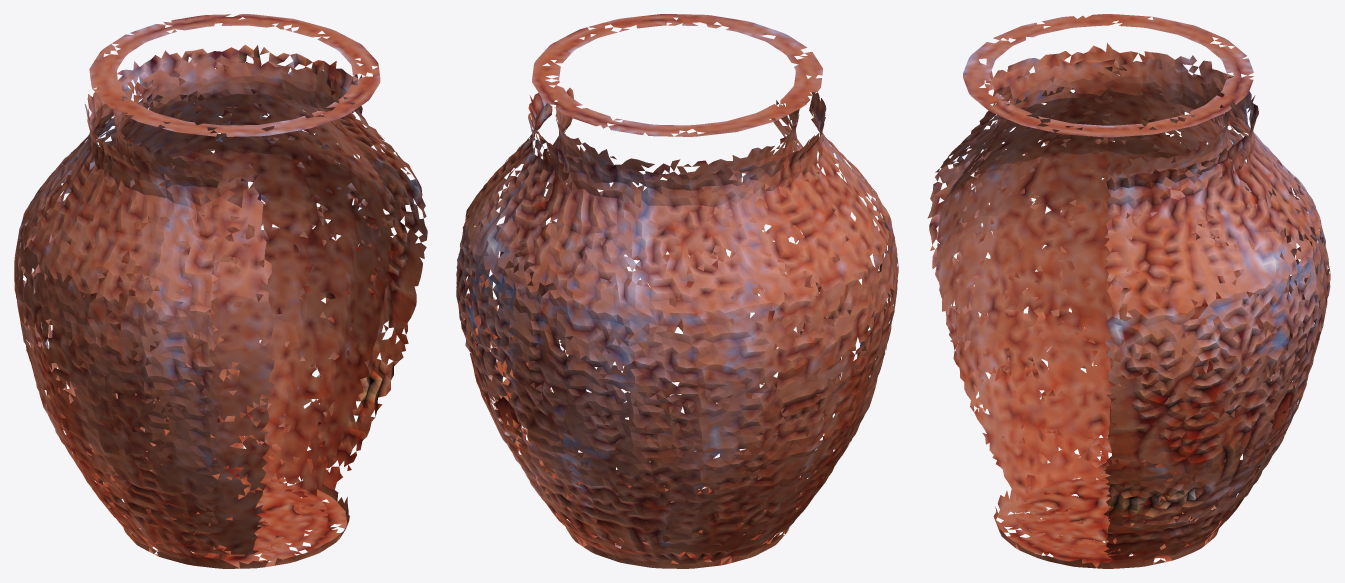
File: vase_final300.obj
The picture shows the model from 3 angles, left to right: view 1: azimuth 30°, elevation 25°; view 2: azimuth 150°, elevation 25°; view 3: azimuth 270°, elevation 25°; orthographic projection.
Size of the model in its own units: 1.53 by 1.69 by 1.39.
